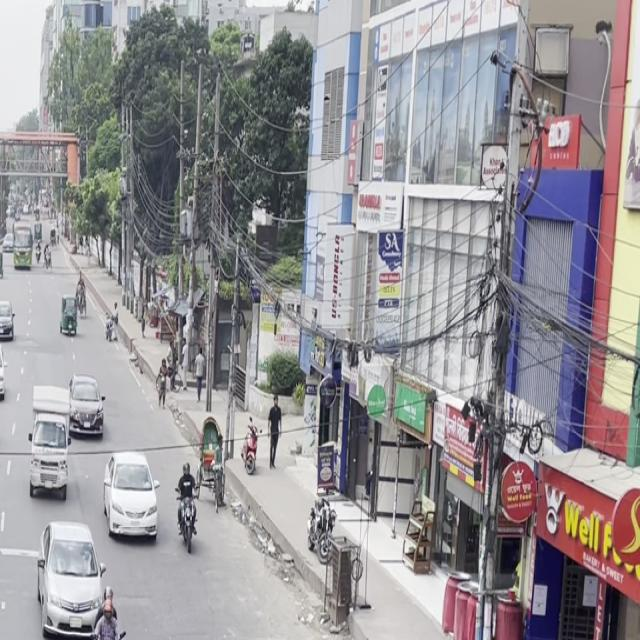car: (32, 509, 108, 640), (100, 445, 163, 553), (23, 392, 75, 509), (65, 368, 106, 444), (0, 336, 9, 406), (0, 623, 32, 640)
motorbike: (172, 461, 202, 554), (84, 582, 132, 640)
